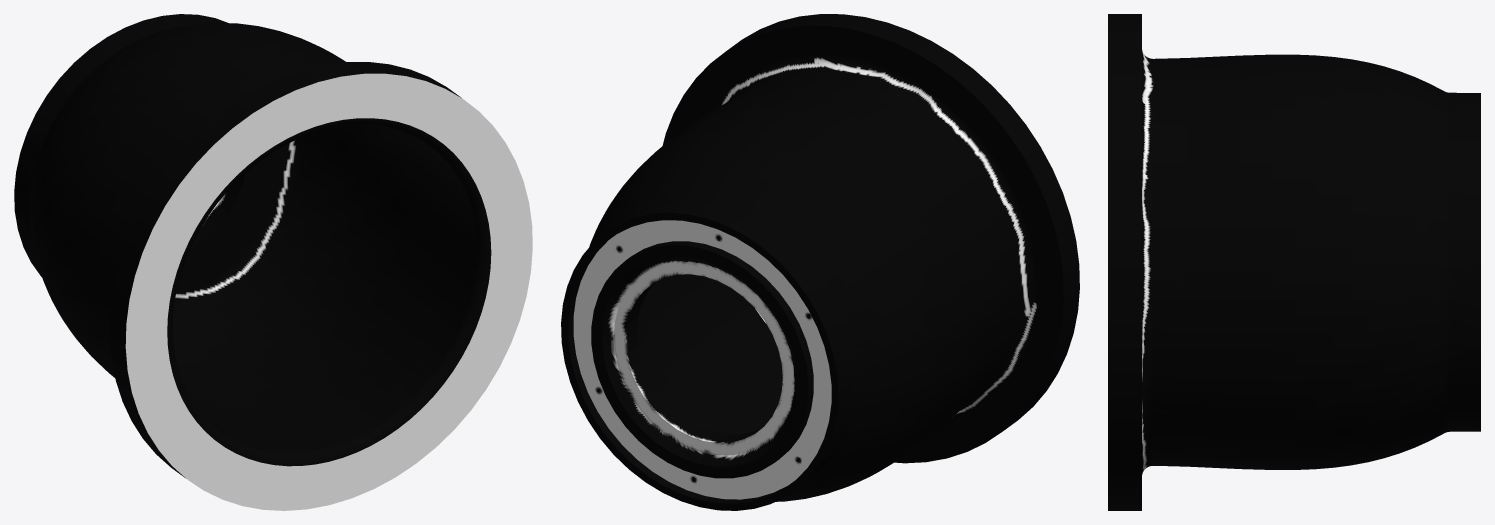
The model's file is barel_paint.glb.
The picture shows the model from 3 angles, left to right: view 1: azimuth 30°, elevation 25°; view 2: azimuth 150°, elevation 25°; view 3: azimuth 270°, elevation 25°; orthographic projection. The views are drawn at different scales.
Parts seen in each view (by area): view 1: kaivalya modified version.; view 2: kaivalya modified version.; view 3: kaivalya modified version..
Boxes of the visible parts, x1,y1,x2,y2 form: kaivalya modified version.: (14,14,532,510); kaivalya modified version.: (561,14,1079,510); kaivalya modified version.: (1108,14,1480,510).
Size of the model in its own units: 43.98 by 43.97 by 33.
Materials: 1 (1 with a texture image).
